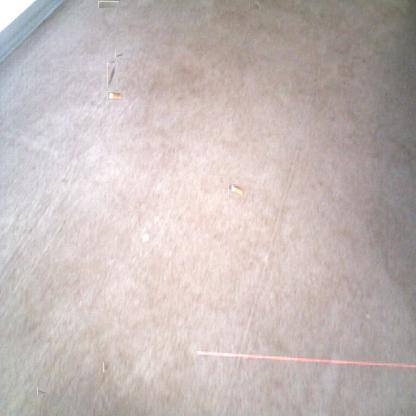dirty: (228, 183, 243, 197), (107, 91, 122, 99)
mark: (107, 63, 118, 88), (98, 1, 119, 8), (39, 386, 49, 397), (250, 1, 260, 11), (103, 362, 110, 372), (116, 52, 124, 59), (109, 58, 116, 64)
